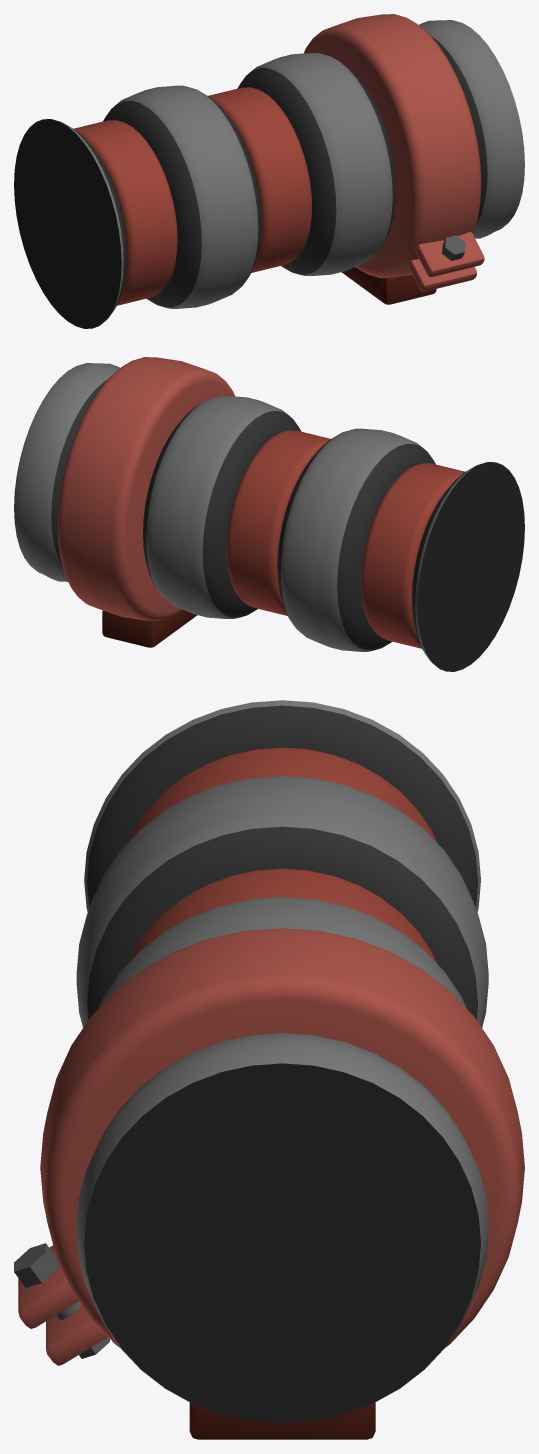
The model's file is rod_segment_l.glb.
3 views of the same model, one above another, from view 1: azimuth 30°, elevation 25°; view 2: azimuth 150°, elevation 25°; view 3: azimuth 270°, elevation 25° (orthographic). The views are drawn at different scales.
Visible parts, largest first — view 1: collar2_m.001, bead7_m.001, bead6_m.001, bead8_m.001, bead5_m.001, band4_m.001, band3_m.001, core_m.001, collar2_ear1_m.001, collar2_foot_m.001, collar2_ear0_m.001, collar2_nut+1_m.001; view 2: collar2_m.001, bead7_m.001, bead6_m.001, bead8_m.001, bead5_m.001, band4_m.001, band3_m.001, core_m.001, collar2_foot_m.001; view 3: bead5_m.001, collar2_m.001, bead7_m.001, bead8_m.001, bead6_m.001, core_m.001, band4_m.001, band3_m.001, collar2_foot_m.001, collar2_ear1_m.001, collar2_ear0_m.001, collar2_nut+1_m.001.
Boxes of the visible parts, bbox=[...] form: collar2_m.001: bbox=[304, 14, 481, 277]; bead7_m.001: bbox=[103, 85, 261, 308]; bead6_m.001: bbox=[237, 53, 395, 275]; bead8_m.001: bbox=[14, 119, 127, 328]; bead5_m.001: bbox=[419, 20, 524, 238]; band4_m.001: bbox=[73, 120, 177, 305]; band3_m.001: bbox=[208, 87, 312, 272]; core_m.001: bbox=[33, 156, 102, 288]; collar2_ear1_m.001: bbox=[415, 232, 484, 277]; collar2_foot_m.001: bbox=[341, 267, 436, 304]; collar2_ear0_m.001: bbox=[407, 259, 476, 291]; collar2_nut+1_m.001: bbox=[442, 235, 465, 260]; collar2_m.001: bbox=[57, 357, 234, 620]; bead7_m.001: bbox=[277, 428, 435, 651]; bead6_m.001: bbox=[143, 396, 301, 618]; bead8_m.001: bbox=[411, 462, 524, 671]; bead5_m.001: bbox=[14, 363, 119, 581]; band4_m.001: bbox=[361, 463, 465, 648]; band3_m.001: bbox=[226, 430, 330, 615]; core_m.001: bbox=[437, 507, 505, 634]; collar2_foot_m.001: bbox=[102, 610, 197, 647]; bead5_m.001: bbox=[76, 1033, 489, 1423]; collar2_m.001: bbox=[40, 928, 524, 1347]; bead7_m.001: bbox=[76, 776, 488, 1027]; bead8_m.001: bbox=[84, 700, 480, 912]; bead6_m.001: bbox=[98, 897, 466, 1008]; core_m.001: bbox=[155, 1127, 410, 1359]; band4_m.001: bbox=[128, 747, 436, 842]; band3_m.001: bbox=[128, 868, 436, 963]; collar2_foot_m.001: bbox=[189, 1402, 375, 1439]; collar2_ear1_m.001: bbox=[18, 1245, 78, 1328]; collar2_ear0_m.001: bbox=[46, 1305, 107, 1365]; collar2_nut+1_m.001: bbox=[14, 1243, 57, 1287].
Bounding box in the file's own units: 24 × 14.54 × 14.27.
